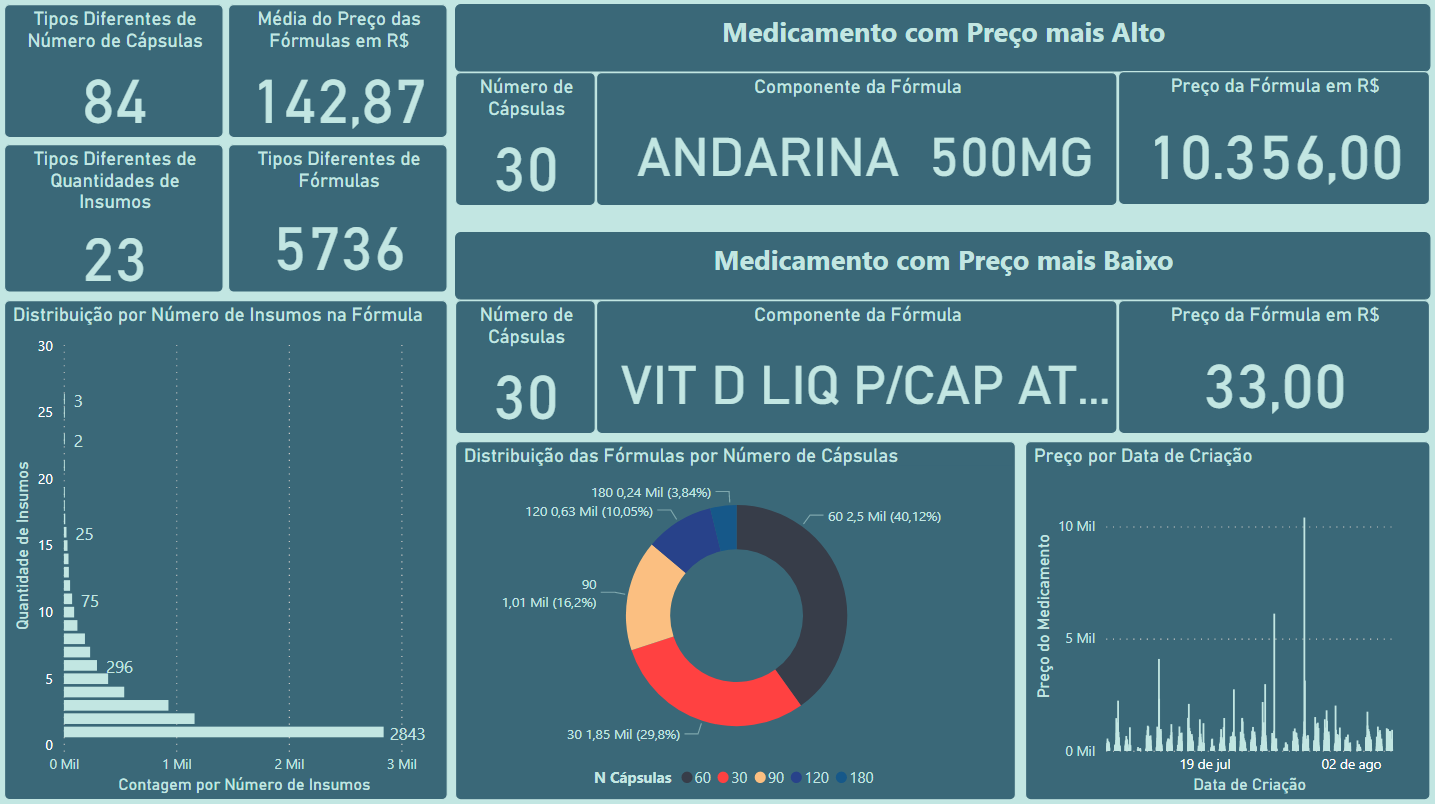

The dashboard page shown, as its layout file describes it:
{"tool":"powerbi","page":{"name":"Página 1","canvas":[1280,720],"ordinal":0},"visuals":[{"type":"card","title":"Tipos Diferentes de Número de Cápsulas","fields":{"Values":["Count(dados_preco.num_cap)"]},"box":[6.2,6.2,195.3,119],"z":0},{"type":"card","title":"Média do Preço das Fórmulas em R$","fields":{"Values":["Avg(dados_preco.correto_c)"]},"box":[205.1,6.2,195.3,119],"z":1000},{"type":"card","title":"Componente da Fórmula","fields":{"Values":["Min(dados_preco.descricao.2)"]},"box":[531.8,66.6,463.4,119],"z":2000},{"type":"card","title":"Número de Cápsulas","fields":{"Values":["Sum(dados_preco.num_cap)"]},"box":[406.6,66.6,125.2,119],"z":3000},{"type":"donutChart","title":"Distribuição das Fórmulas por Número de Cápsulas","fields":{"Y":["CountNonNull(dados_preco.num_cap)"],"Category":["dados_preco.num_cap"]},"box":[406.6,394.2,498.1,318.7],"z":4000},{"type":"clusteredBarChart","title":"Distribuição por Número de Insumos na Fórmula","fields":{"Y":["CountNonNull(dados_preco.qtdInsumos)"],"Category":["dados_preco.qtdInsumos"]},"box":[6.2,269,394.2,443.9],"z":5000},{"type":"textbox","box":[406.6,6.2,865.6,60.4],"z":6000},{"type":"card","title":"Preço da Fórmula em R$","fields":{"Values":["Sum(dados_preco.correto_c)"]},"box":[995.2,65.7,277,119],"z":7000},{"type":"card","title":"Tipos Diferentes de Quantidades de Insumos","fields":{"Values":["Count(dados_preco.qtdInsumos)"]},"box":[6.2,130.5,195.3,132.3],"z":8000},{"type":"textbox","box":[406.6,208.6,865.6,60.4],"z":9000},{"type":"card","title":"Número de Cápsulas","fields":{"Values":["Sum(dados_preco.num_cap)"]},"box":[406.6,269,125.2,119],"z":10000},{"type":"card","title":"Componente da Fórmula","fields":{"Values":["Min(dados_preco.descricao.2)"]},"box":[531.8,269,463.4,119],"z":11000},{"type":"card","title":"Preço da Fórmula em R$","fields":{"Values":["Sum(dados_preco.correto_c)"]},"box":[995.2,269,277,119],"z":12000},{"type":"clusteredColumnChart","title":"Preço por Data de Criação","fields":{"Category":["dados_preco.criado"],"Y":["Sum(dados_preco.correto_c)"]},"box":[912.7,394.2,359.6,318.7],"z":13000},{"type":"card","title":"Tipos Diferentes de Fórmulas","fields":{"Values":["Count(dados_preco.descricao.2)"]},"box":[205.1,130.5,195.3,132.3],"z":14000}]}

Visuals, with their boxes in screenshot pixels (x1, y1, x2, y2), scaled from the page's 1280x720 canvas onto the 1435x804 screenshot:
"Tipos Diferentes de Número de Cápsulas" card: 7 7 226 140
"Média do Preço das Fórmulas em R$" card: 230 7 449 140
"Componente da Fórmula" card: 596 74 1116 207
"Número de Cápsulas" card: 456 74 596 207
"Distribuição das Fórmulas por Número de Cápsulas" donutChart: 456 440 1014 796
"Distribuição por Número de Insumos na Fórmula" clusteredBarChart: 7 300 449 796
textbox: 456 7 1426 74
"Preço da Fórmula em R$" card: 1116 73 1426 206
"Tipos Diferentes de Quantidades de Insumos" card: 7 146 226 293
textbox: 456 233 1426 300
"Número de Cápsulas" card: 456 300 596 433
"Componente da Fórmula" card: 596 300 1116 433
"Preço da Fórmula em R$" card: 1116 300 1426 433
"Preço por Data de Criação" clusteredColumnChart: 1023 440 1426 796
"Tipos Diferentes de Fórmulas" card: 230 146 449 293
